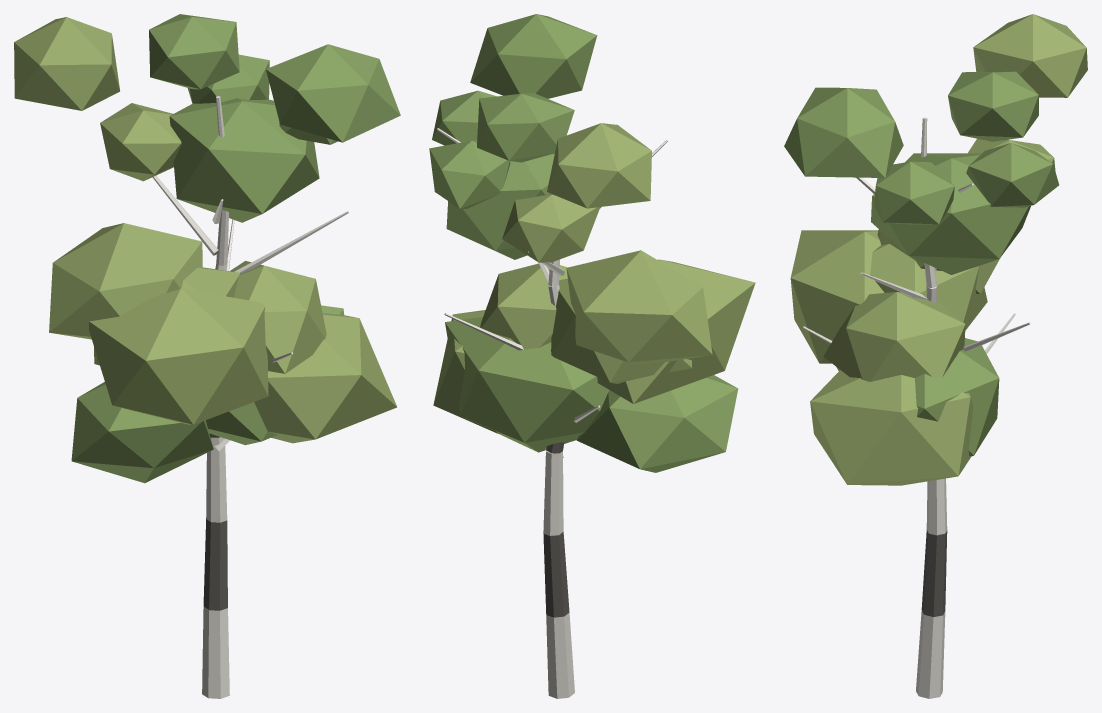
Rendered from beryoza.glb.
3 views of the same model, side by side, from view 1: azimuth 30°, elevation 25°; view 2: azimuth 150°, elevation 25°; view 3: azimuth 270°, elevation 25° (orthographic). The views are drawn at different scales.
Parts seen in each view (by area): view 1: beryoza; view 2: beryoza; view 3: beryoza.
Part boxes in pixels (bbox=[...]): beryoza: bbox=[14, 14, 400, 698]; beryoza: bbox=[429, 14, 755, 698]; beryoza: bbox=[784, 14, 1087, 698].
Bounding box in the file's own units: 5.79 × 12.22 × 5.28.
